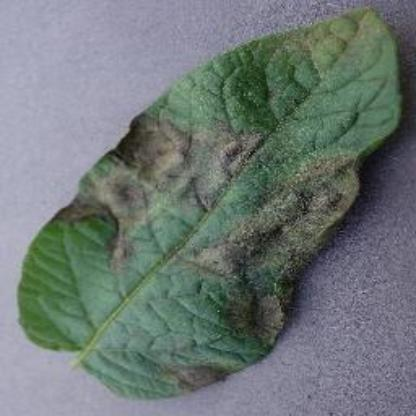Late-Blight: (16, 11, 410, 402)
